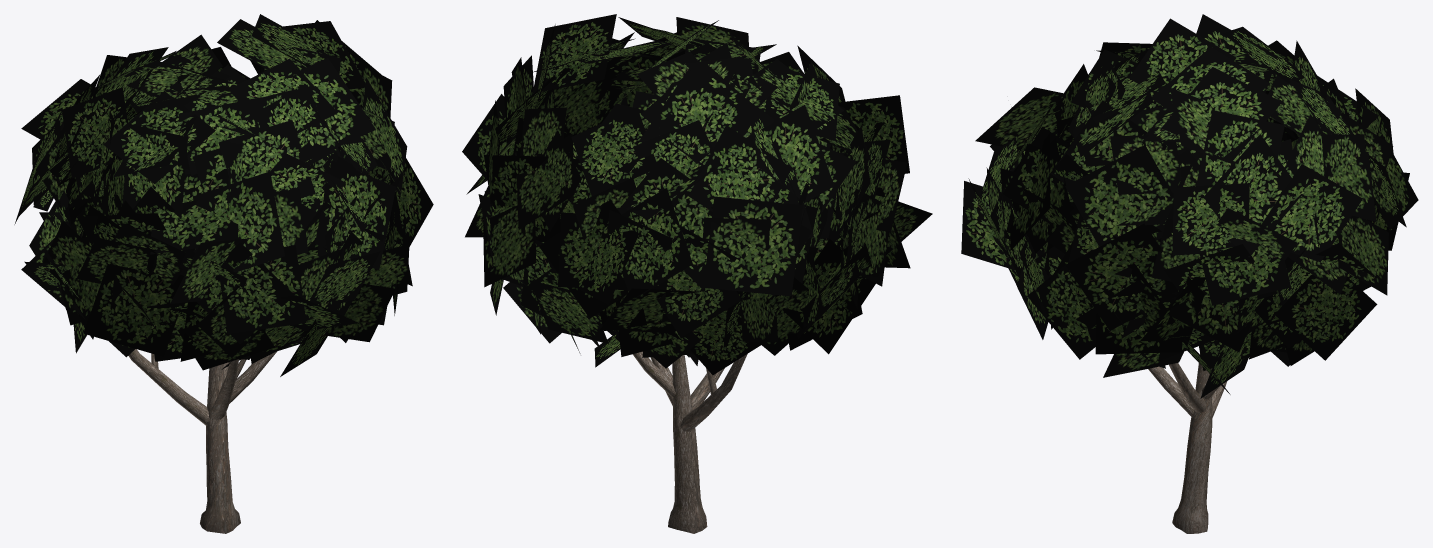
The model's file is old-maple.glb.
The picture shows the model from 3 angles, left to right: view 1: azimuth 30°, elevation 25°; view 2: azimuth 150°, elevation 25°; view 3: azimuth 270°, elevation 25°; orthographic projection. The views are drawn at different scales.
Visible parts, largest first — view 1: OldMaple_Leaves, OldMaple_Bark; view 2: OldMaple_Leaves, OldMaple_Bark; view 3: OldMaple_Leaves, OldMaple_Bark.
Boxes of the visible parts, x1,y1,x2,y2 form: OldMaple_Leaves: (14,14,433,376); OldMaple_Bark: (128,349,276,533); OldMaple_Leaves: (462,14,932,375); OldMaple_Bark: (633,351,747,533); OldMaple_Leaves: (961,14,1418,398); OldMaple_Bark: (1148,353,1227,533).
Bounding box in the file's own units: 13.59 × 17.61 × 14.68.
Materials: 2 (2 with a texture image).
